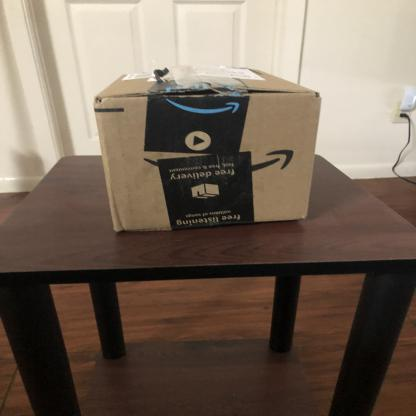package: (88, 65, 327, 235)
